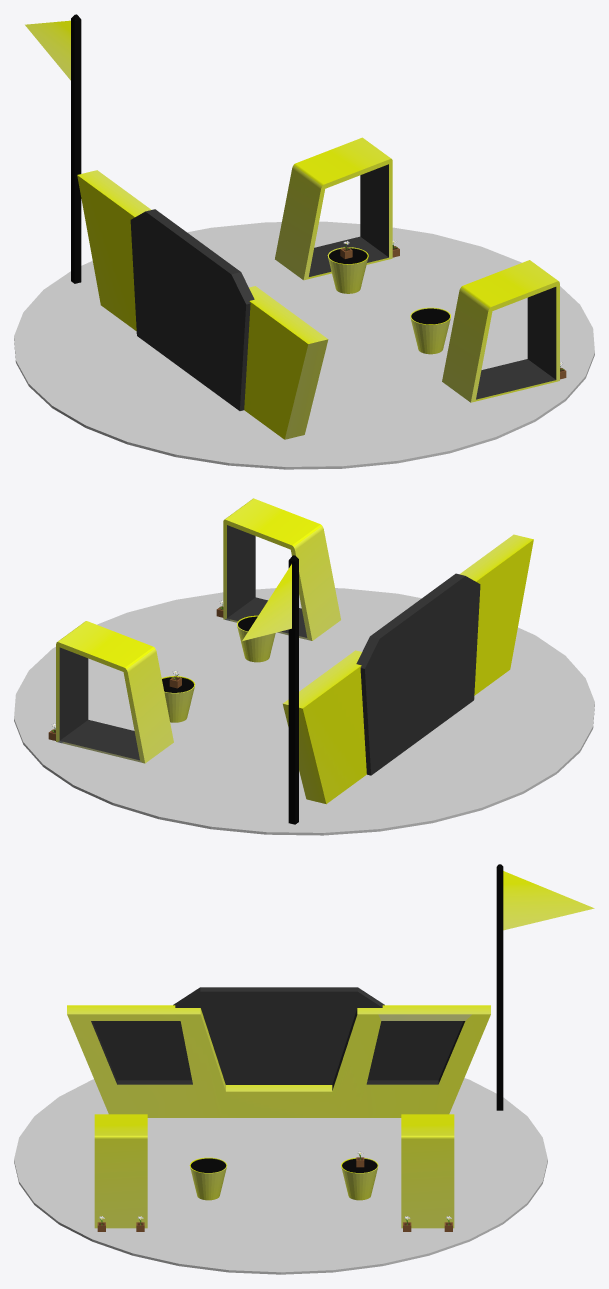
Rendered from stand_gold.glb.
3 renders of one model, top to bottom at view 1: azimuth 30°, elevation 25°; view 2: azimuth 150°, elevation 25°; view 3: azimuth 270°, elevation 25°, orthographic. The views are drawn at different scales.
Parts seen in each view (by area): view 1: Cylinder, Cube.002, Cube.001, Cube.003, Cube.004, Cube.010, Cylinder.001, Plane, Cylinder.002; view 2: Cylinder, Cube.002, Cube.001, Cube.004, Cube.003, Cube.010, Plane, Cylinder.002, Cylinder.001; view 3: Cylinder, Cube.001, Cube.002, Cube.003, Cube.004, Plane, Cube.010, Cylinder.001, Cylinder.002.
Part boxes in pixels (bbox=[...]): Cylinder: bbox=[14, 221, 594, 469]; Cube.002: bbox=[130, 209, 254, 410]; Cube.001: bbox=[77, 170, 328, 439]; Cube.003: bbox=[442, 260, 559, 402]; Cube.004: bbox=[275, 137, 392, 280]; Cube.010: bbox=[71, 14, 81, 283]; Cylinder.001: bbox=[410, 307, 450, 354]; Plane: bbox=[25, 20, 70, 80]; Cylinder.002: bbox=[327, 247, 368, 293]; Cylinder: bbox=[14, 588, 594, 835]; Cube.002: bbox=[356, 573, 480, 775]; Cube.001: bbox=[283, 534, 533, 804]; Cube.004: bbox=[56, 621, 173, 763]; Cube.003: bbox=[223, 498, 340, 640]; Cube.010: bbox=[288, 555, 298, 824]; Plane: bbox=[242, 564, 291, 641]; Cylinder.002: bbox=[161, 676, 195, 722]; Cylinder.001: bbox=[237, 615, 275, 662]; Cylinder: bbox=[14, 1078, 547, 1274]; Cube.001: bbox=[67, 1005, 490, 1117]; Cube.002: bbox=[173, 987, 384, 1084]; Cube.003: bbox=[94, 1114, 147, 1228]; Cube.004: bbox=[401, 1114, 454, 1228]; Plane: bbox=[503, 871, 594, 930]; Cube.010: bbox=[496, 864, 503, 1110]; Cylinder.001: bbox=[189, 1157, 227, 1200]; Cylinder.002: bbox=[341, 1157, 378, 1200].
Bounding box in the file's own units: 3.52 × 1.81 × 3.83.
Materials: 10 (3 with a texture image).
